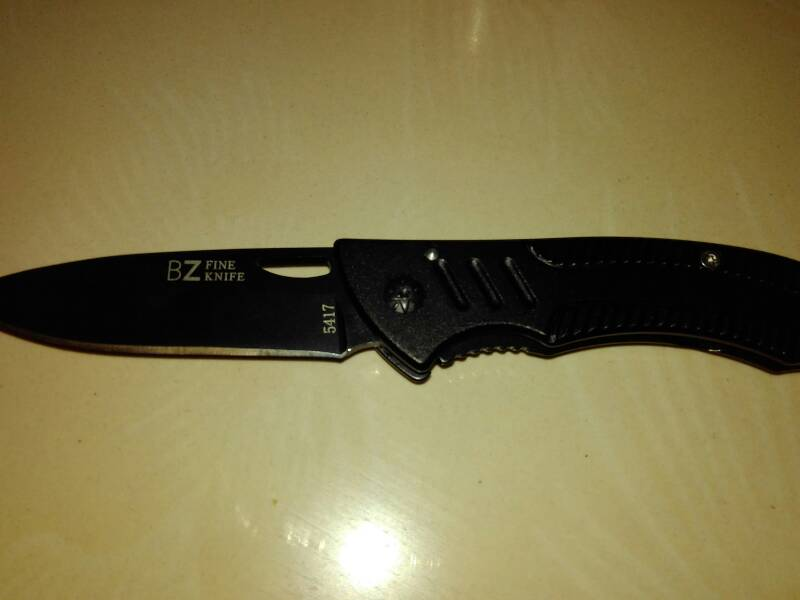knief: (1, 248, 800, 367)
